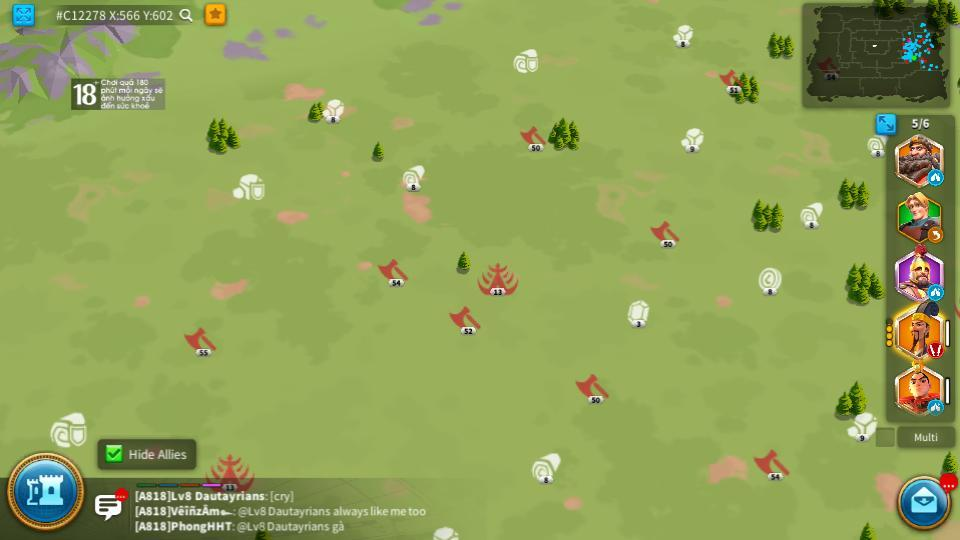gem-z-out: (432, 526, 457, 539)
march_attacking: (927, 345, 944, 358)
march_idle: (927, 401, 945, 413), (929, 284, 942, 297), (929, 173, 942, 186)
march_returning: (929, 229, 942, 241)
